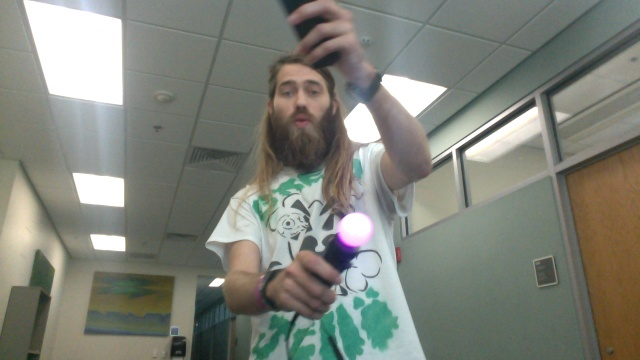wand: (339, 213, 373, 246)
